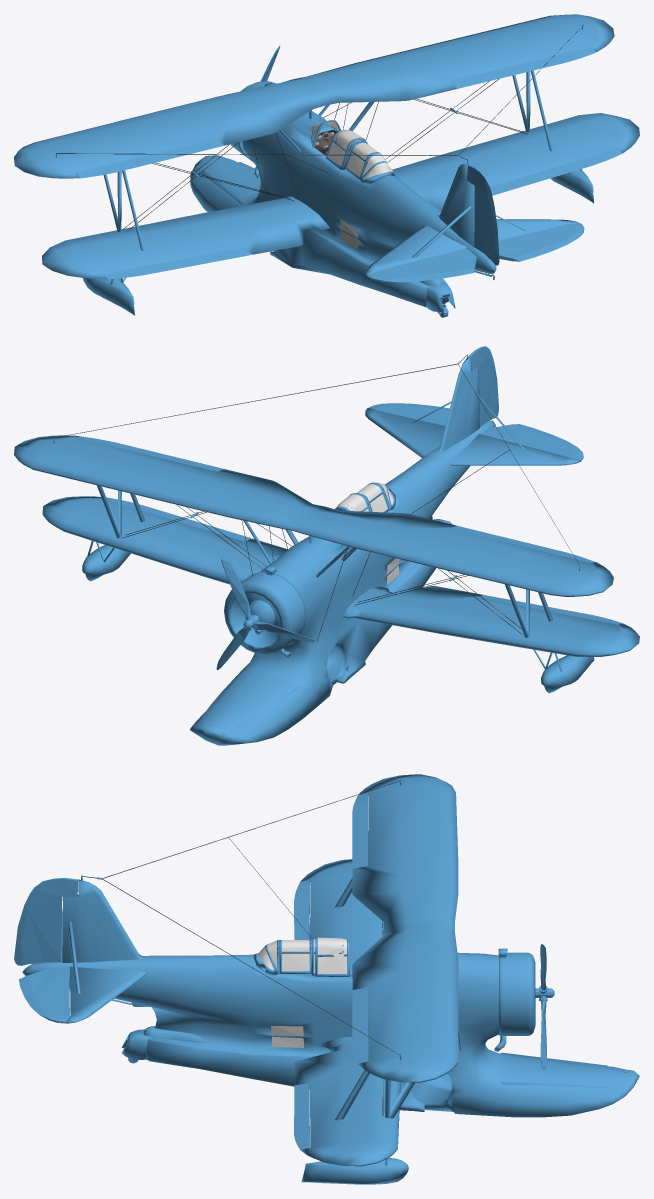
The model's file is grummanduck 1.FBX.
The picture shows the model from 3 angles, top to bottom: view 1: azimuth 30°, elevation 25°; view 2: azimuth 150°, elevation 25°; view 3: azimuth 270°, elevation 25°; orthographic projection. The views are drawn at different scales.
Parts seen in each view (by area): view 1: Ali, fusoliera, left elevator, Cavi, Vetro, right elevator, rudder, lefttop aileron, righttop aileron, leftdown aileron, rightlow aileron; view 2: Ali, fusoliera, Cavi, prop, left elevator, rudder, Vetro, right elevator, rightlow aileron, lefttop aileron, righttop aileron, leftdown aileron; view 3: fusoliera, Ali, rudder, Vetro, right elevator, righttop aileron, lefttop aileron, rightlow aileron, Cavi, leftdown aileron, prop.
Boxes of the visible parts, bbox=[...] form: Ali: bbox=[14, 14, 639, 279]; fusoliera: bbox=[55, 24, 593, 315]; left elevator: bbox=[369, 248, 476, 282]; Cavi: bbox=[57, 25, 583, 232]; Vetro: bbox=[312, 121, 393, 249]; right elevator: bbox=[498, 223, 584, 261]; rudder: bbox=[466, 165, 499, 265]; lefttop aileron: bbox=[76, 138, 223, 178]; righttop aileron: bbox=[450, 47, 595, 88]; leftdown aileron: bbox=[104, 247, 251, 279]; rightlow aileron: bbox=[490, 148, 622, 195]; Ali: bbox=[14, 435, 639, 657]; fusoliera: bbox=[53, 354, 594, 745]; Cavi: bbox=[55, 355, 579, 640]; prop: bbox=[216, 555, 314, 669]; left elevator: bbox=[481, 424, 583, 459]; rudder: bbox=[468, 346, 498, 426]; Vetro: bbox=[337, 482, 399, 585]; right elevator: bbox=[368, 403, 449, 425]; rightlow aileron: bbox=[107, 497, 251, 541]; lefttop aileron: bbox=[450, 525, 594, 562]; righttop aileron: bbox=[76, 436, 223, 471]; leftdown aileron: bbox=[477, 595, 622, 624]; fusoliera: bbox=[22, 780, 639, 1184]; Ali: bbox=[294, 774, 458, 1166]; rudder: bbox=[14, 877, 78, 965]; Vetro: bbox=[258, 937, 346, 1047]; right elevator: bbox=[19, 967, 69, 1023]; righttop aileron: bbox=[352, 987, 367, 1063]; lefttop aileron: bbox=[352, 792, 367, 868]; rightlow aileron: bbox=[294, 1083, 309, 1149]; Cavi: bbox=[82, 781, 460, 1115]; leftdown aileron: bbox=[294, 880, 309, 939]; prop: bbox=[535, 944, 554, 1069].
Bounding box in the file's own units: 11.76 × 4.3 × 10.14.
